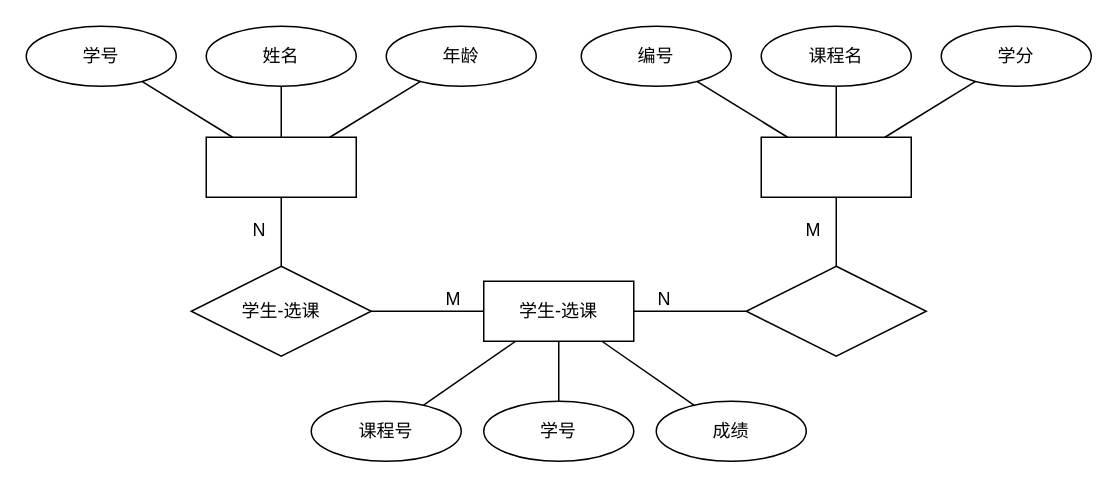
Some shapes in this 1118 by 488 pixel diagram are drawn without their labels. The shapes that lost their labels are listed below. From the top down, each one's centre as x and y in pixels, then its label:
point 280,166: 学生
point 835,166: 课程
point 835,310: 课程-选课
